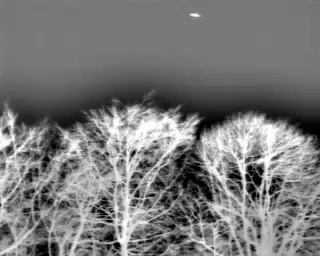BIRD: (188, 10, 203, 21)
